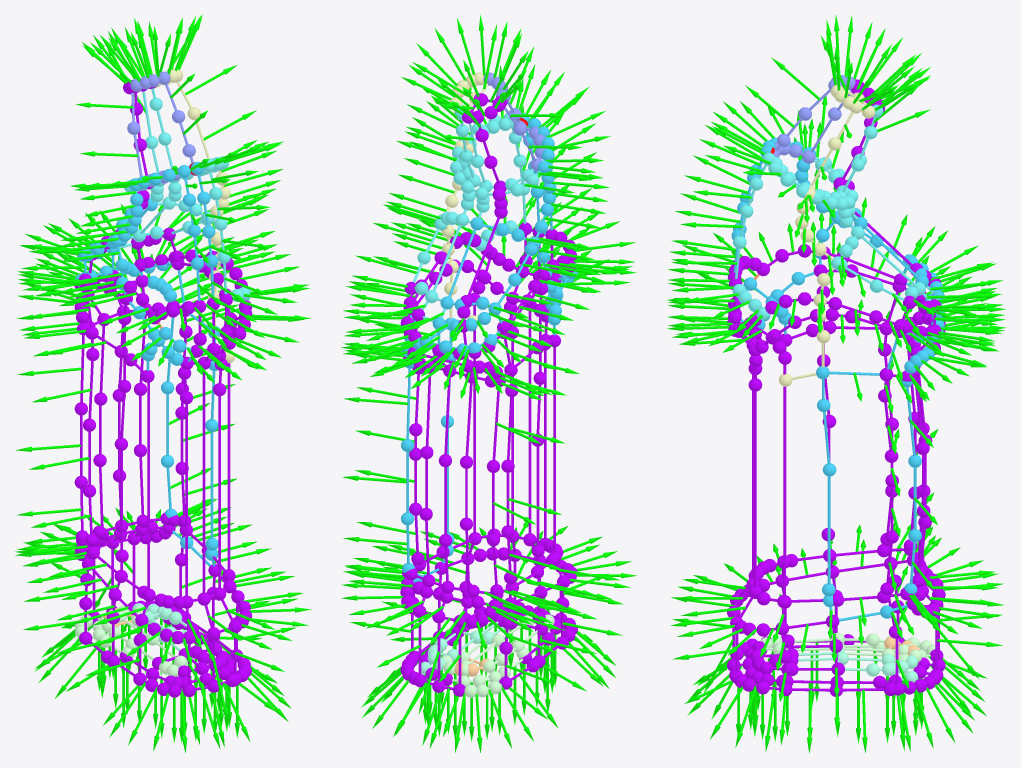
File: flowrep_bottle.gltf
3 renders of one model, left to right at view 1: azimuth 30°, elevation 25°; view 2: azimuth 150°, elevation 25°; view 3: azimuth 270°, elevation 25°, orthographic.
Size of the model in its own units: 0.3717 by 1.14 by 0.5.
